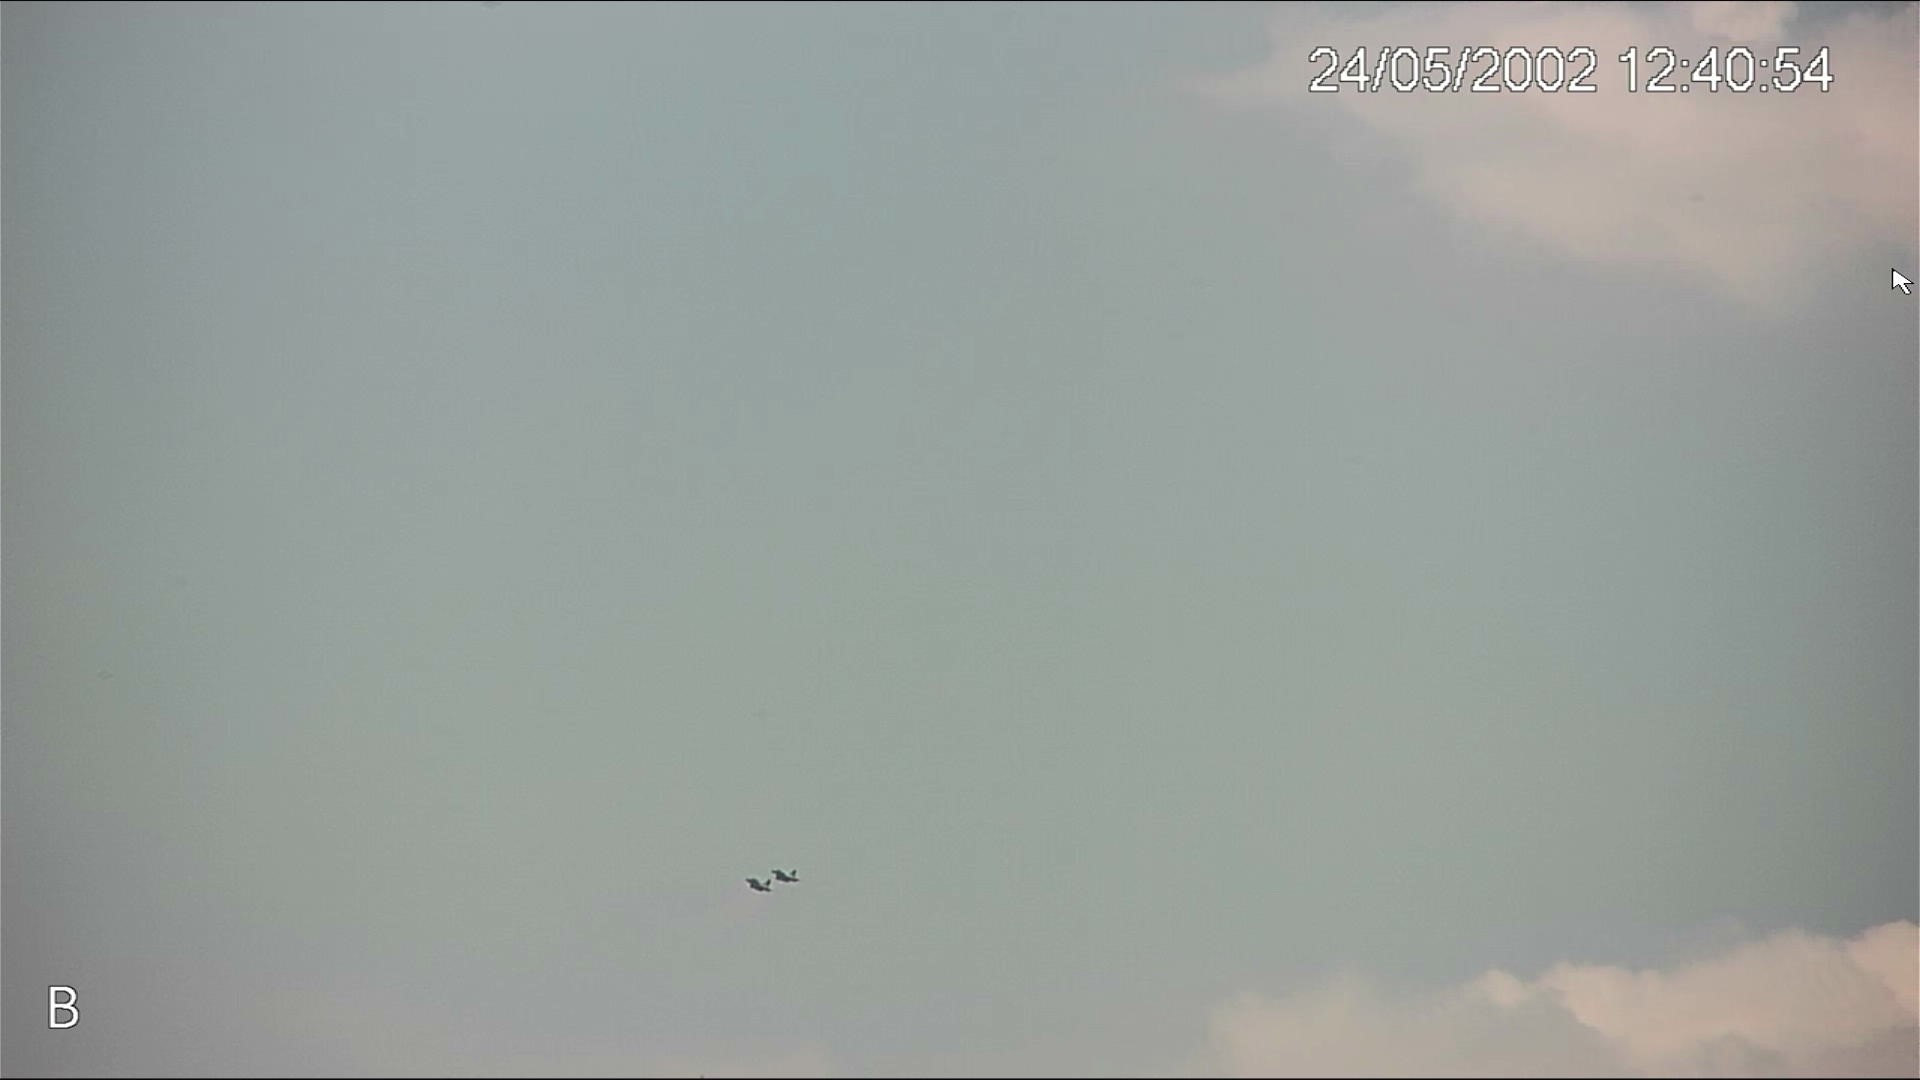SU_30: (767, 865, 802, 885), (742, 878, 771, 895)
